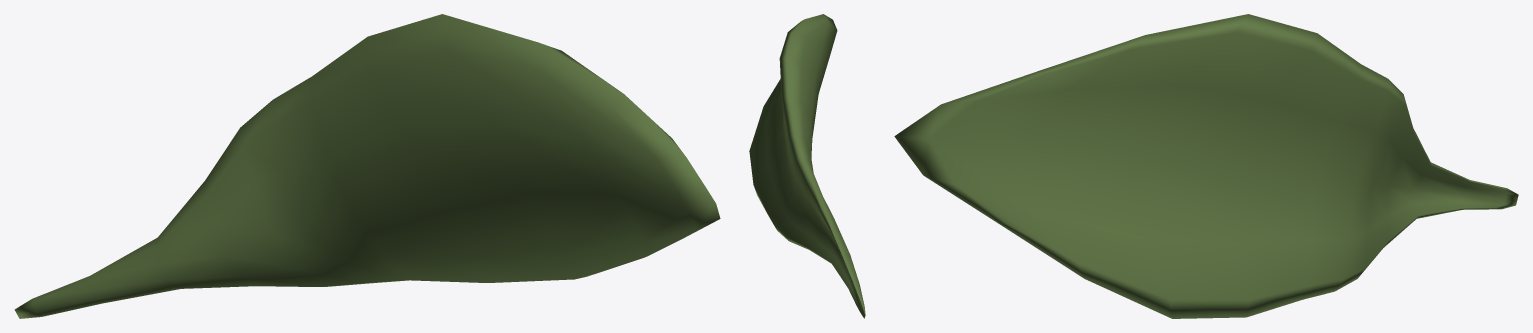
The model's file is leaf.fbx.
3 views of the same model, side by side, from view 1: azimuth 30°, elevation 25°; view 2: azimuth 150°, elevation 25°; view 3: azimuth 270°, elevation 25° (orthographic). The views are drawn at different scales.
Parts seen in each view (by area): view 1: polySurface246; view 2: polySurface246; view 3: polySurface246.
Part boxes in pixels (box(x1,y1,x2,y2)): polySurface246: box(14, 14, 720, 318); polySurface246: box(749, 14, 865, 318); polySurface246: box(894, 14, 1518, 318).
Size of the model in its own units: 0.552 by 0.4179 by 0.721.
